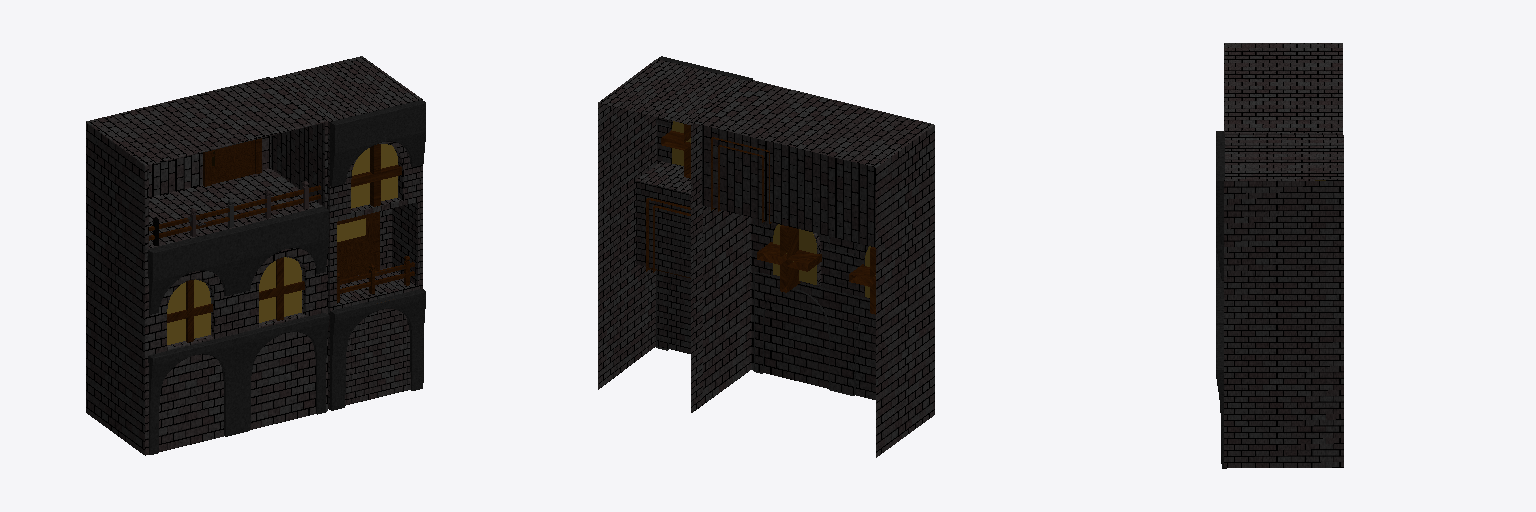
3 renders of one model, left to right at view 1: azimuth 30°, elevation 25°; view 2: azimuth 150°, elevation 25°; view 3: azimuth 270°, elevation 25°, orthographic.
Visible parts, largest first — view 1: sub1.003, sub5.001, door_bake.009, door_bake.008; view 2: sub1.003, sub5.001, door_bake.008, door_bake.009; view 3: sub5.001, sub1.003.
Part boxes in pixels (left/top/right/bottom): sub1.003: left=86, top=77, right=328, bottom=455; sub5.001: left=271, top=56, right=425, bottom=410; door_bake.009: left=337, top=211, right=379, bottom=279; door_bake.008: left=203, top=138, right=261, bottom=186; sub1.003: left=692, top=80, right=934, bottom=457; sub5.001: left=598, top=56, right=752, bottom=412; door_bake.008: left=711, top=137, right=771, bottom=223; door_bake.009: left=646, top=198, right=690, bottom=278; sub5.001: left=1216, top=135, right=1343, bottom=468; sub1.003: left=1216, top=43, right=1342, bottom=324.
Bounding box in the file's own units: 16.1 × 16.08 × 6.41.
4 materials, 3 textured.